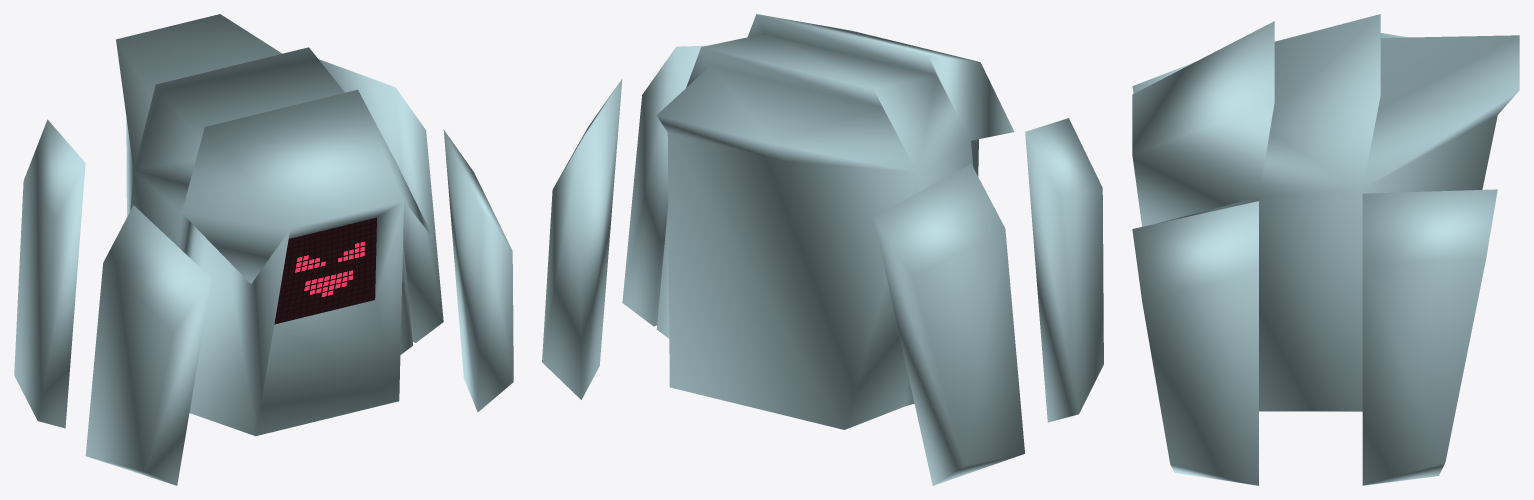
Rendered from sentry2.glb.
3 renders of one model, left to right at view 1: azimuth 30°, elevation 25°; view 2: azimuth 150°, elevation 25°; view 3: azimuth 270°, elevation 25°, orthographic. The views are drawn at different scales.
Parts seen in each view (by area): view 1: Body, Leg_FR.001, Leg_RR.001, Leg_FL.001, Leg_RL.001, Face; view 2: Body, Leg_RR.001, Leg_FR.001, Leg_RL.001, Leg_FL.001; view 3: Body, Leg_RL.001, Leg_FL.001.
Boxes of the visible parts, x1=… form: Body: x1=116, y1=14, x2=433, y2=436; Leg_FR.001: x1=85, y1=205, x2=211, y2=485; Leg_RR.001: x1=14, y1=119, x2=85, y2=428; Leg_FL.001: x1=443, y1=130, x2=513, y2=412; Leg_RL.001: x1=318, y1=59, x2=443, y2=342; Face: x1=274, y1=217, x2=376, y2=324; Body: x1=656, y1=14, x2=1014, y2=429; Leg_RR.001: x1=873, y1=164, x2=1024, y2=485; Leg_FR.001: x1=1025, y1=118, x2=1103, y2=422; Leg_RL.001: x1=542, y1=79, x2=622, y2=399; Leg_FL.001: x1=622, y1=45, x2=706, y2=326; Body: x1=1132, y1=14, x2=1519, y2=411; Leg_RL.001: x1=1362, y1=189, x2=1497, y2=485; Leg_FL.001: x1=1132, y1=201, x2=1258, y2=485.
Bounding box in the file's own units: 0.8151 × 0.6019 × 0.623.
Materials: 2 (1 with a texture image).
